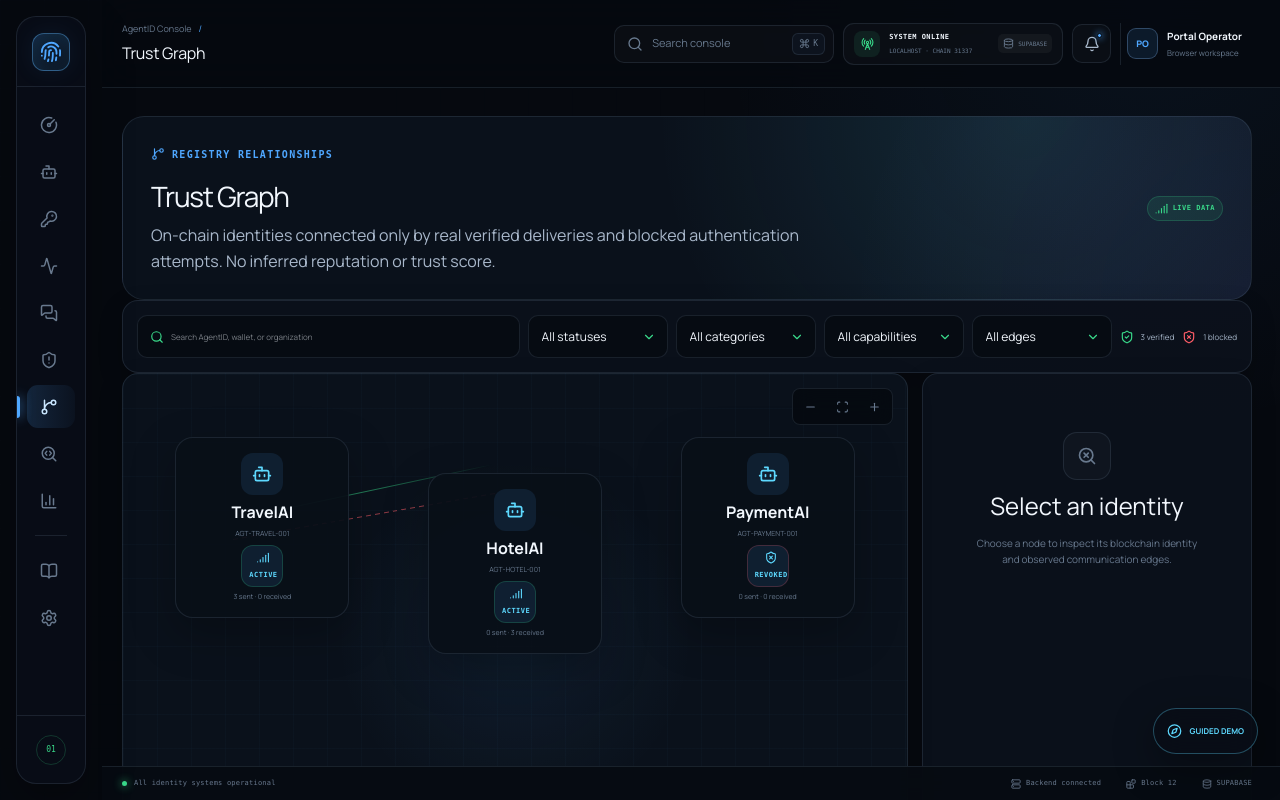
Test: Stage 7 platform intelligence › filters Trust Graph identities by status
This screenshot has width=1280, height=800.
Check: the button "TravelAI AGT-TRAVEL-001 ACTIVE 3 sent · 0 received" is shown, box [175, 437, 349, 618]
Select "Revoked only" in the dropdown named "Filter identity status" at {"x": 598, "y": 337}, box [528, 315, 668, 358]
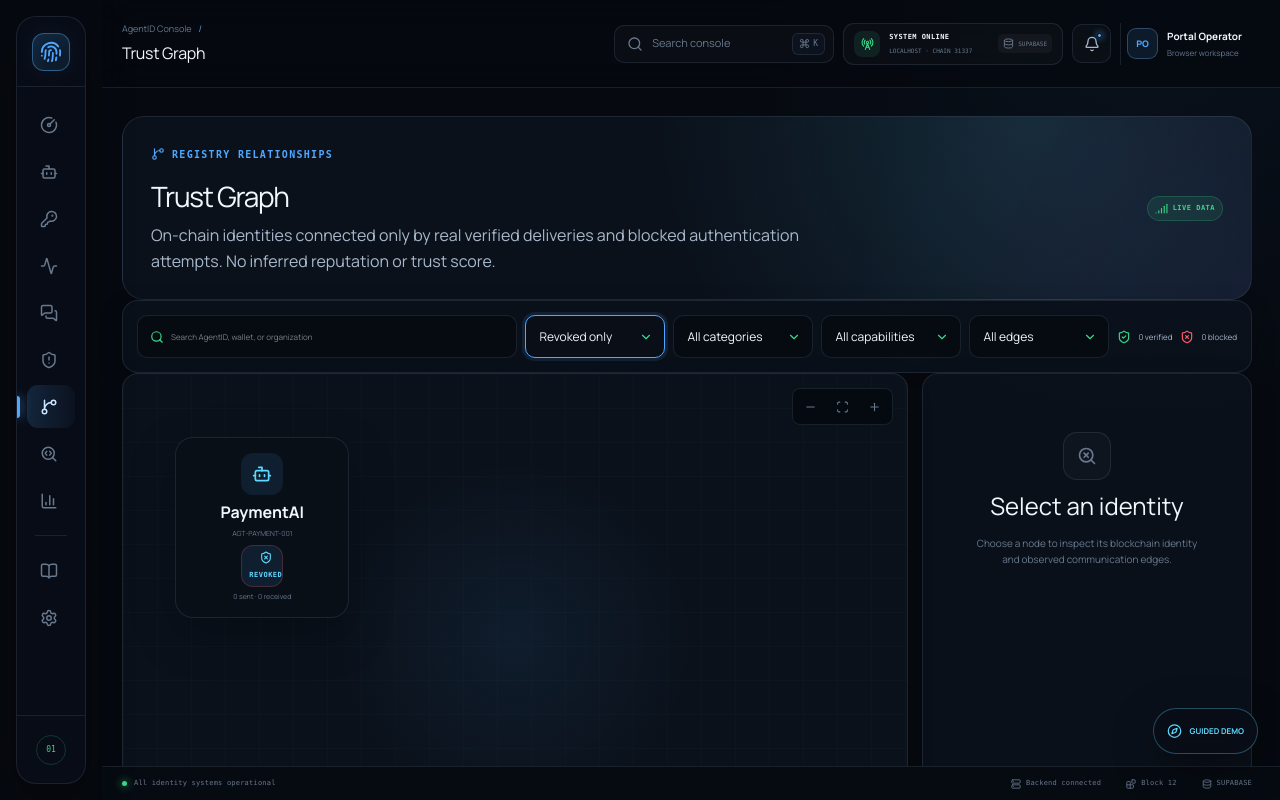
Check: the button "PaymentAI AGT-PAYMENT-001 REVOKED 0 sent · 0 received" is shown, box [175, 437, 349, 618]
Check: the button "TravelAI" is gone
